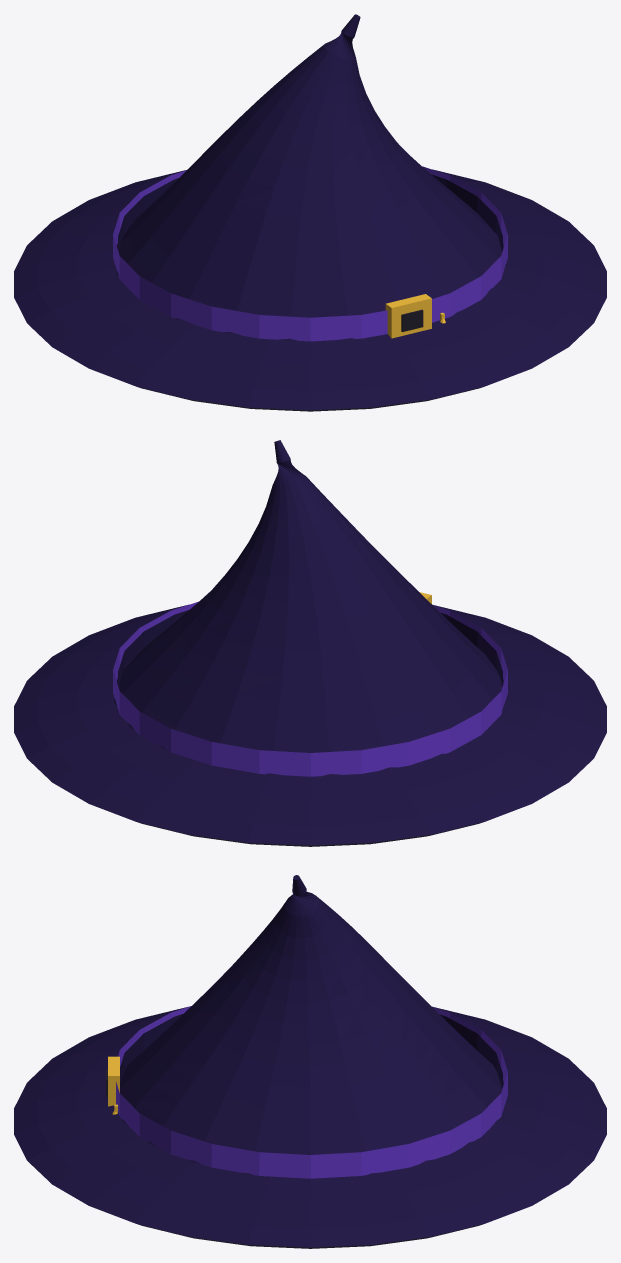
Rendered from wizard_hat.obj.
3 views of the same model, one above another, from view 1: azimuth 30°, elevation 25°; view 2: azimuth 150°, elevation 25°; view 3: azimuth 270°, elevation 25° (orthographic).
Parts seen in each view (by area): view 1: wizard_hat; view 2: wizard_hat; view 3: wizard_hat.
Boxes of the visible parts, left/top/right/bottom form: wizard_hat: left=14, top=14, right=606, bottom=411; wizard_hat: left=14, top=440, right=606, bottom=846; wizard_hat: left=14, top=875, right=606, bottom=1248.
Bounding box in the file's own units: 14.8 × 7.41 × 14.72.
